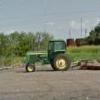Tractor: (19, 33, 80, 76)
